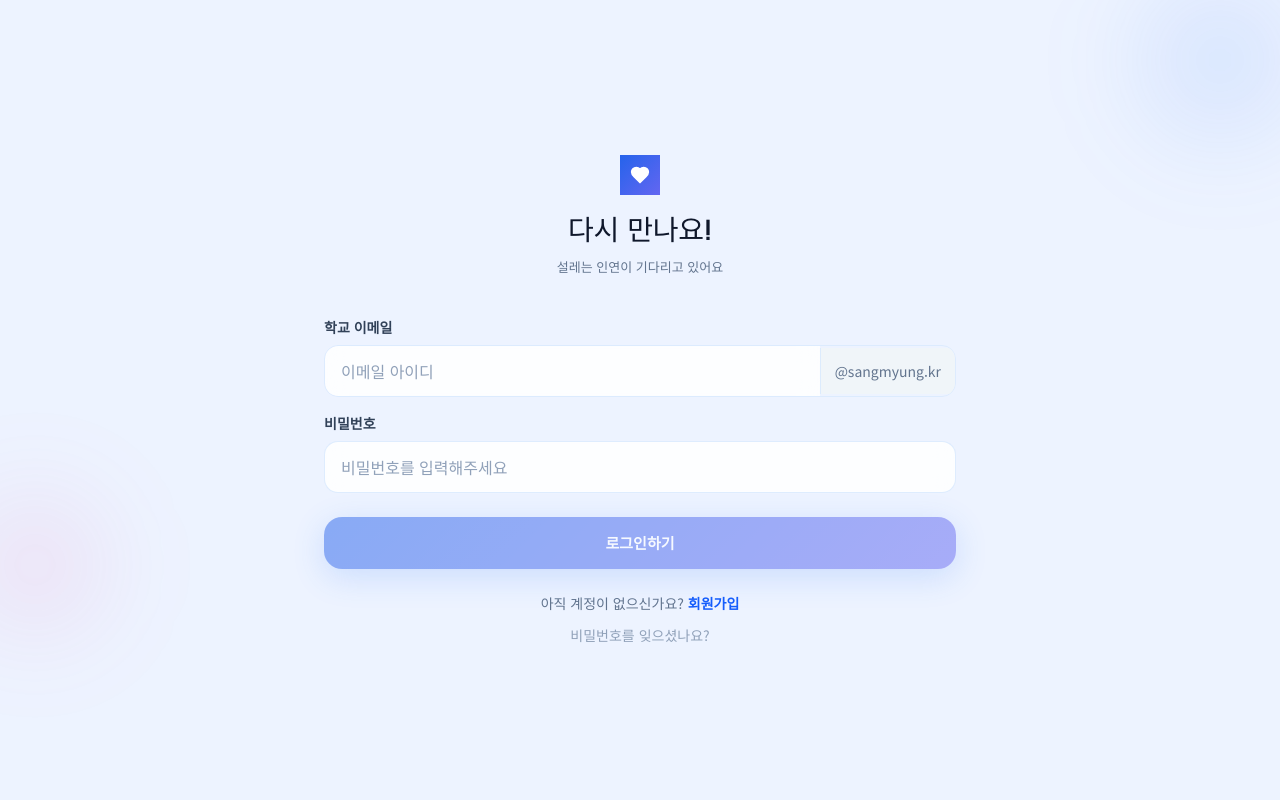
Test: LoginPage › 이메일 + 비밀번호 모두 입력 시 버튼 활성화
Type "testuser" into the field labelled "학교 이메일".
click(572, 370); type("testuser")  # box [325,346,820,396]
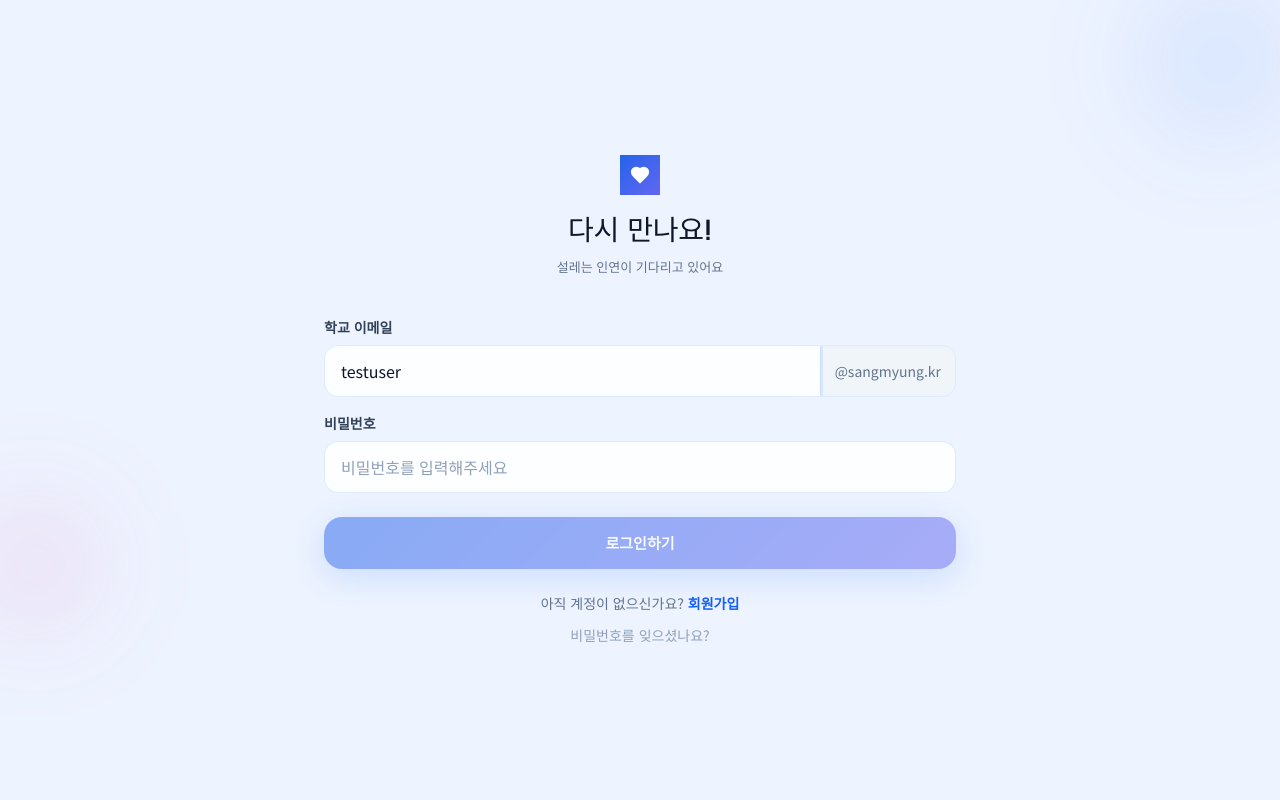
Type "password123" into the password field labelled "비밀번호".
click(640, 466); type("password123")  # box [324,440,956,492]
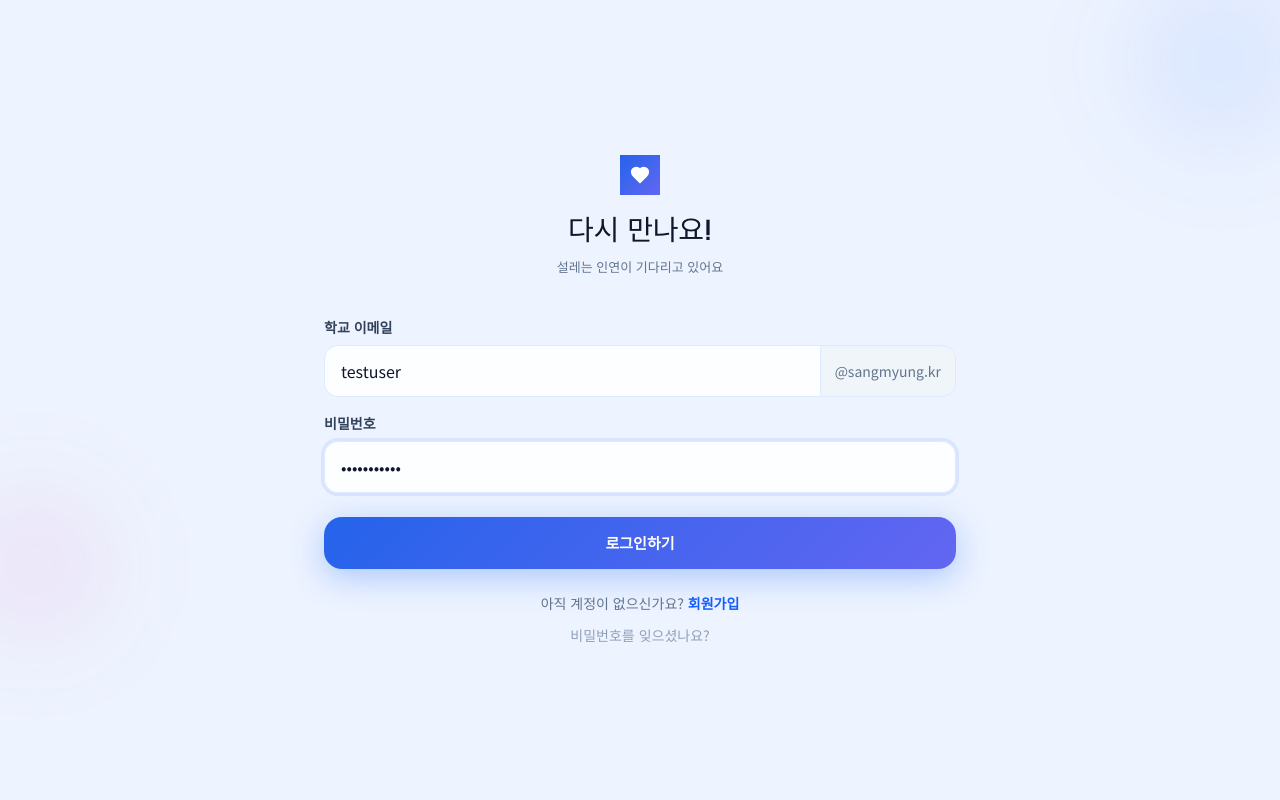
Result: the button "로그인하기" is enabled at [324,516,956,569]
